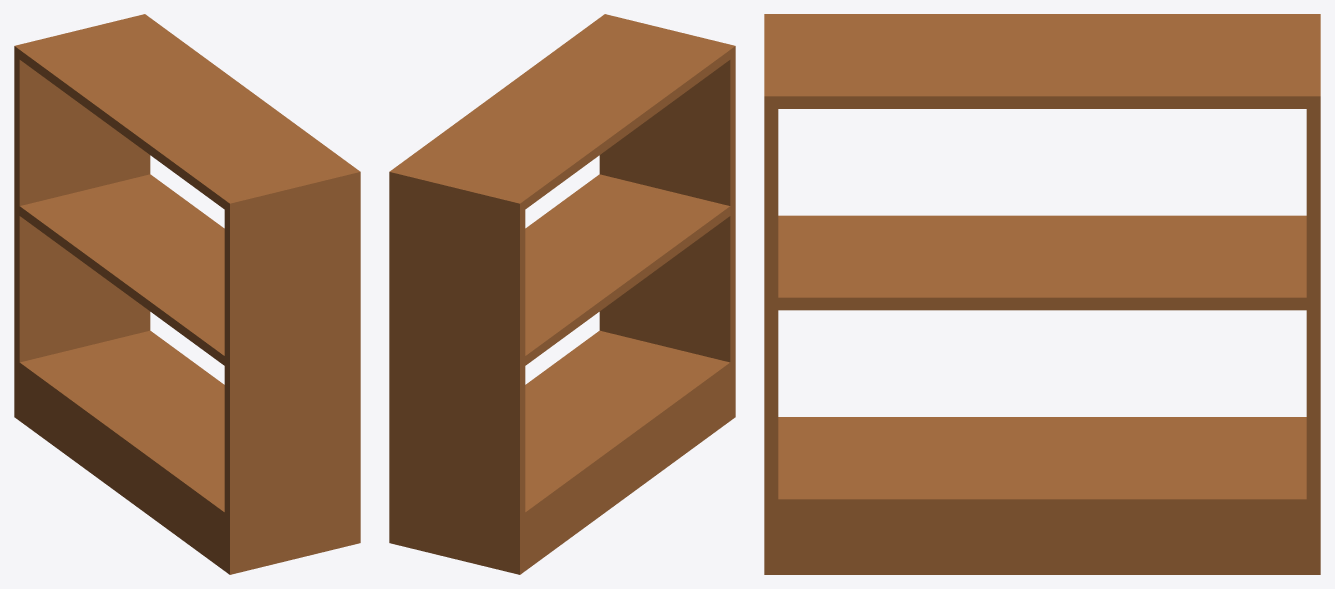
Rendered from shelves_02.glb.
3 views of the same model, side by side, from view 1: azimuth 30°, elevation 25°; view 2: azimuth 150°, elevation 25°; view 3: azimuth 270°, elevation 25° (orthographic). The views are drawn at different scales.
Visible parts, largest first — view 1: Untitled; view 2: Untitled; view 3: Untitled.
Boxes of the visible parts, x1,y1,x2,y2 form: Untitled: (14,14,360,574); Untitled: (389,14,735,574); Untitled: (764,14,1320,574).
Size of the model in its own units: 0.42 by 1.14 by 1.2.
1 material, 1 textured.
